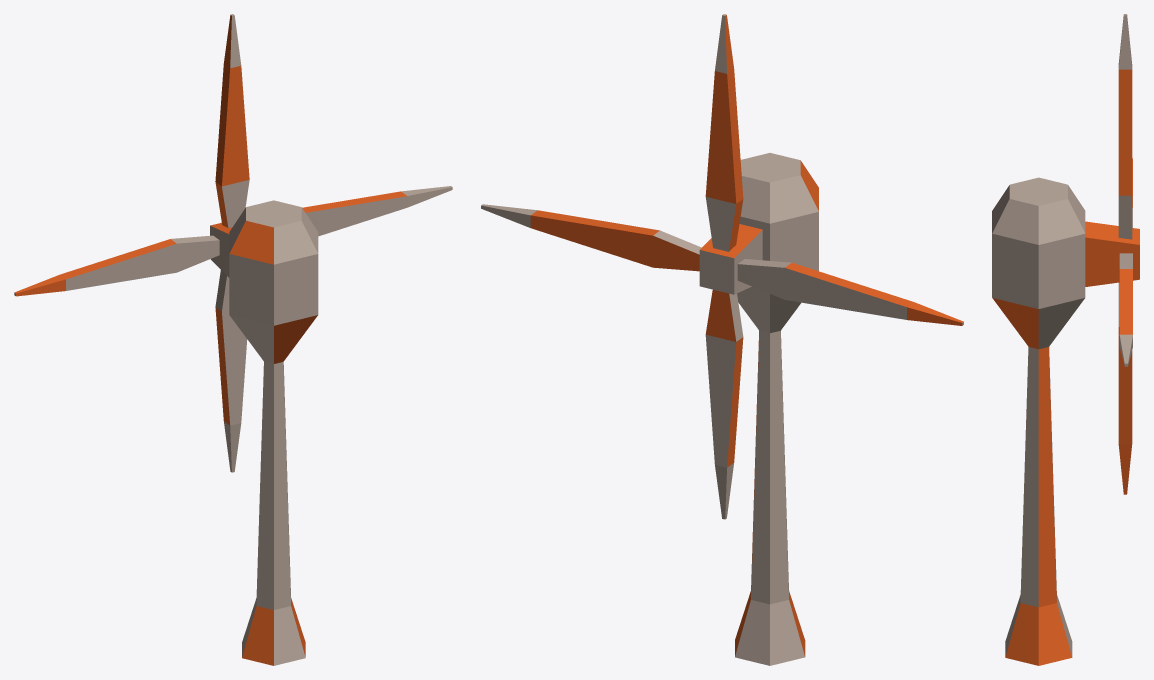
Rendered from WindTurbine.001.fbx.
The picture shows the model from 3 angles, left to right: view 1: azimuth 30°, elevation 25°; view 2: azimuth 150°, elevation 25°; view 3: azimuth 270°, elevation 25°; orthographic projection. The views are drawn at different scales.
Parts seen in each view (by area): view 1: WindTurbine.001_LOD0; view 2: WindTurbine.001_LOD0; view 3: WindTurbine.001_LOD0.
Boxes of the visible parts, x1,y1,x2,y2 form: WindTurbine.001_LOD0: (14, 14, 452, 665); WindTurbine.001_LOD0: (481, 14, 963, 665); WindTurbine.001_LOD0: (992, 14, 1139, 665).
Size of what is drawn, in the model's own units: 47875 by 63427 by 13373.
